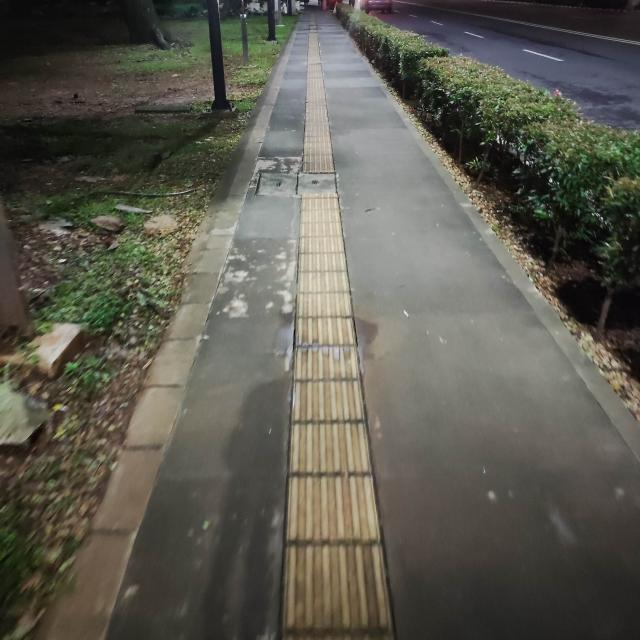lurus: (267, 81, 378, 640)
